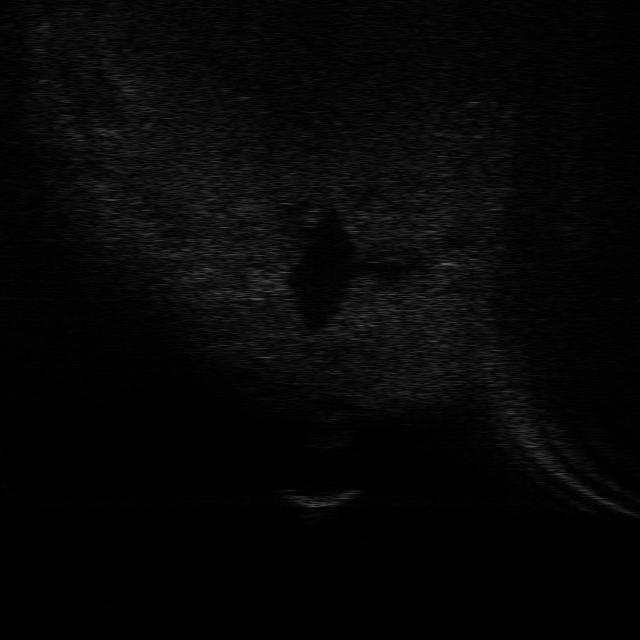cube: (275, 488, 361, 512)
